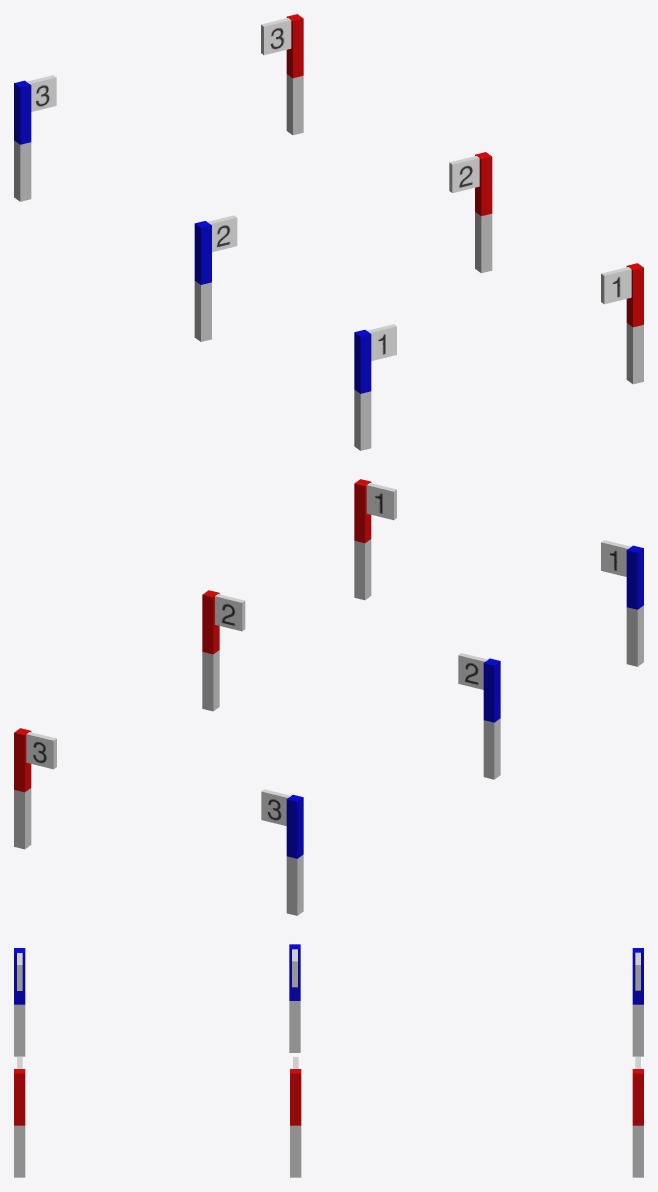
The model's file is R2AB_frag.dae.
3 renders of one model, top to bottom at view 1: azimuth 30°, elevation 25°; view 2: azimuth 150°, elevation 25°; view 3: azimuth 270°, elevation 25°, orthographic. The views are drawn at different scales.
Visible parts, largest first — view 1: Group7, Group3, Group9, Group13, Group11, Group5, Group12, Group6, Group8, Group4, Group10, Group2; view 2: Group3, Group9, Group7, Group13, Group5, Group11, Group6, Group12, Group8, Group2, Group4, Group10; view 3: Group5, Group11, Group13, Group9, Group7, Group3.
Boxes of the visible parts, <box> form: Group7: <box>354,329,371,450</box>; Group3: <box>194,221,211,341</box>; Group9: <box>14,80,31,201</box>; Group13: <box>475,152,492,273</box>; Group11: <box>286,14,303,135</box>; Group5: <box>626,263,643,384</box>; Group12: <box>601,267,631,304</box>; Group6: <box>261,18,291,55</box>; Group8: <box>449,156,479,193</box>; Group4: <box>26,75,56,111</box>; Group10: <box>207,215,237,252</box>; Group2: <box>367,324,396,360</box>; Group3: <box>483,658,500,779</box>; Group9: <box>286,794,303,915</box>; Group7: <box>626,545,643,666</box>; Group13: <box>202,590,219,711</box>; Group5: <box>354,479,371,600</box>; Group11: <box>14,728,31,849</box>; Group6: <box>26,732,56,769</box>; Group12: <box>366,483,396,520</box>; Group8: <box>215,594,245,631</box>; Group2: <box>601,540,630,576</box>; Group4: <box>261,789,291,825</box>; Group10: <box>458,653,487,689</box>; Group5: <box>14,1069,25,1177</box>; Group11: <box>632,1069,643,1177</box>; Group13: <box>290,1069,301,1177</box>; Group9: <box>632,948,643,1056</box>; Group7: <box>14,948,25,1056</box>; Group3: <box>289,944,300,1052</box>.
Bounding box in the file's own units: 0.535 × 1.1 × 0.2.
